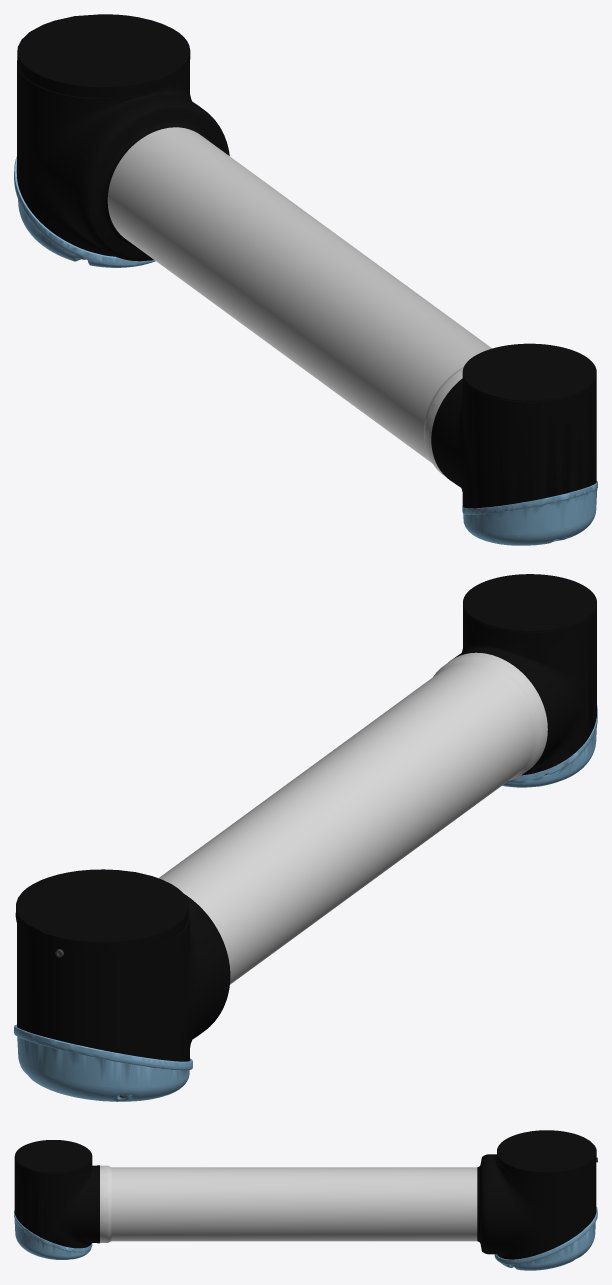
Rendered from forearm.obj.
The picture shows the model from 3 angles, top to bottom: view 1: azimuth 30°, elevation 25°; view 2: azimuth 150°, elevation 25°; view 3: azimuth 270°, elevation 25°; orthographic projection. The views are drawn at different scales.
Parts seen in each view (by area): view 1: shape3-mesh, shape0-mesh, shape4-mesh, shape1-mesh; view 2: shape3-mesh, shape0-mesh, shape4-mesh, shape1-mesh; view 3: shape3-mesh, shape0-mesh, shape4-mesh, shape1-mesh.
Boxes of the visible parts, x1,y1,x2,y2 form: shape3-mesh: (107, 127, 491, 476); shape0-mesh: (17, 60, 596, 508); shape4-mesh: (17, 14, 190, 98); shape1-mesh: (14, 156, 597, 545); shape3-mesh: (159, 652, 547, 984); shape0-mesh: (17, 574, 596, 1061); shape4-mesh: (15, 869, 188, 953); shape1-mesh: (14, 705, 597, 1101); shape3-mesh: (100, 1165, 477, 1242); shape0-mesh: (14, 1140, 596, 1259); shape4-mesh: (497, 1130, 596, 1178); shape1-mesh: (14, 1206, 597, 1270).
Size of the model in its own units: 0.12 by 0.1362 by 0.6776.
